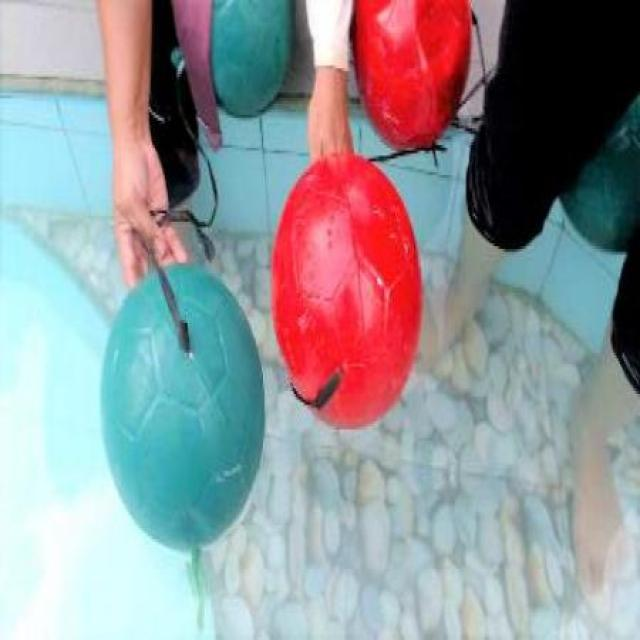buoy: (102, 265, 264, 550), (270, 150, 423, 430), (350, 0, 473, 151), (210, 1, 295, 114)
